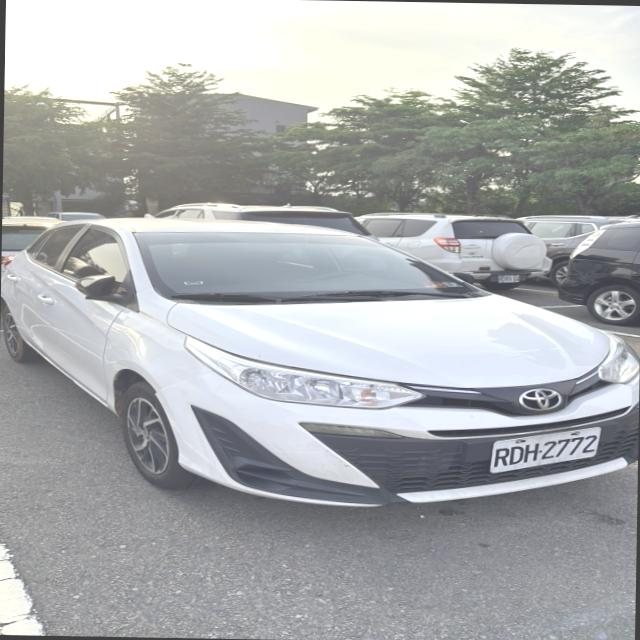license plate: (492, 427, 600, 473)
wheel: (122, 382, 196, 488)
